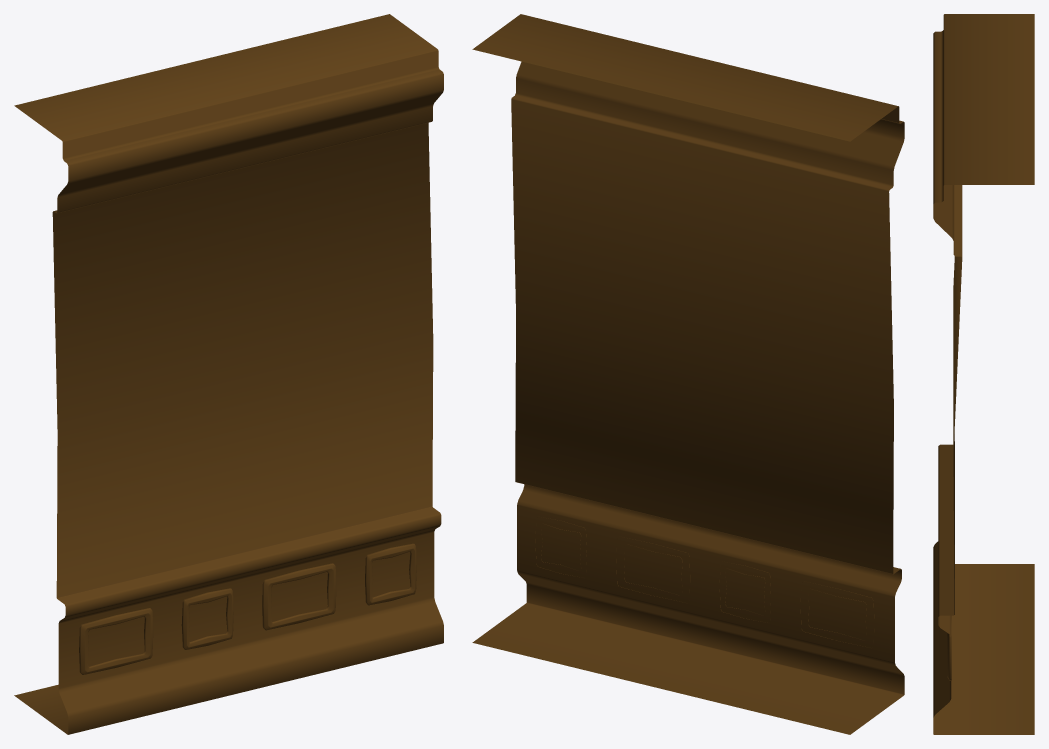
File: Wall moldings.fbx
The picture shows the model from 3 angles, left to right: view 1: azimuth 30°, elevation 25°; view 2: azimuth 150°, elevation 25°; view 3: azimuth 270°, elevation 25°; orthographic projection. The views are drawn at different scales.
Visible parts, largest first — view 1: Wall moldings; view 2: Wall moldings; view 3: Wall moldings.
Boxes of the visible parts, x1,y1,x2,y2 form: Wall moldings: (14, 14, 443, 734); Wall moldings: (472, 14, 904, 734); Wall moldings: (933, 14, 1034, 734).
Size of the model in its own units: 200 by 300 by 50.
